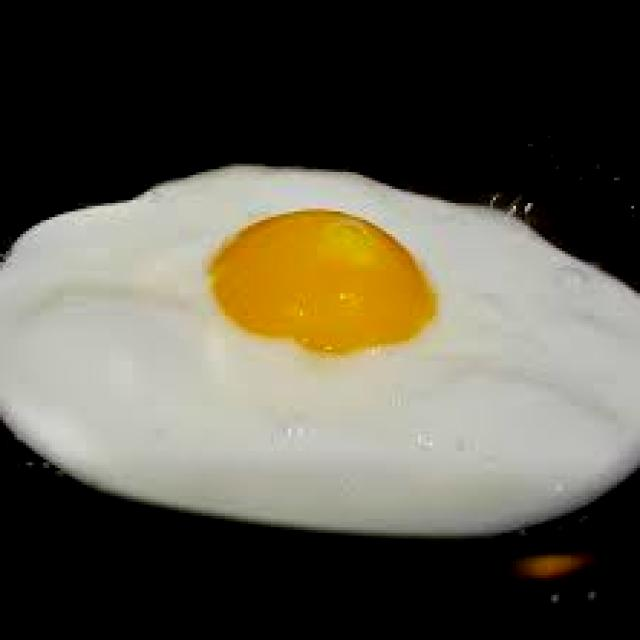telur ceplok: (0, 164, 640, 555)
